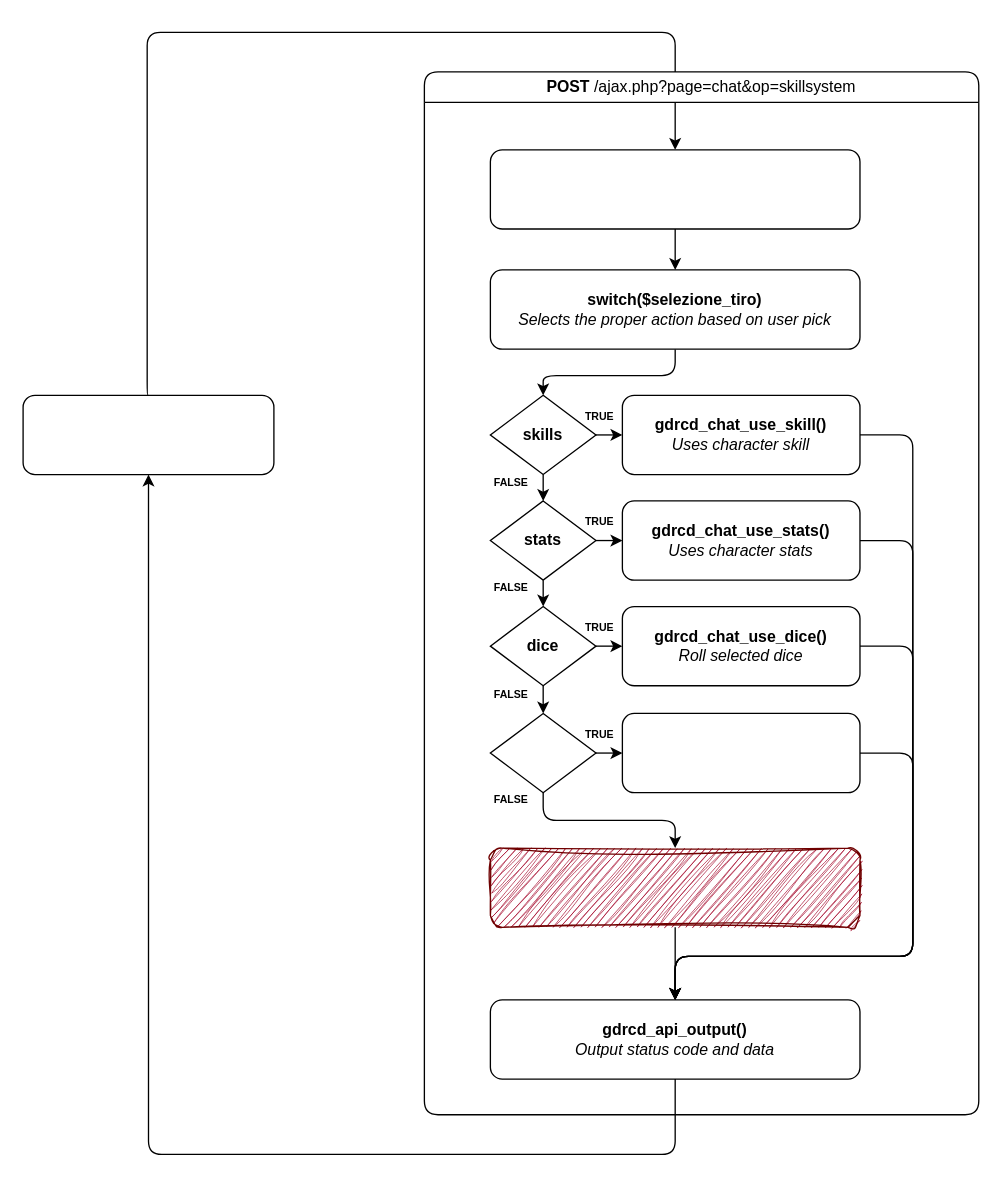
This 1002x1188 diagram has some shape labels left out. The shapes that lost their labels are listed below. From the top down, each one's centre as x and y in pixels, then its label:
point (674, 188): /pages/chat/op/skillsystem.inc.php The "op" file requested
point (148, 434): /pages/chat/chat_input.php Frontend - User submit the form
point (542, 752): items
point (740, 752): gdrcd_chat_use_item() Uses an item in the inventory
point (674, 887): Invalid Case Sad Path
